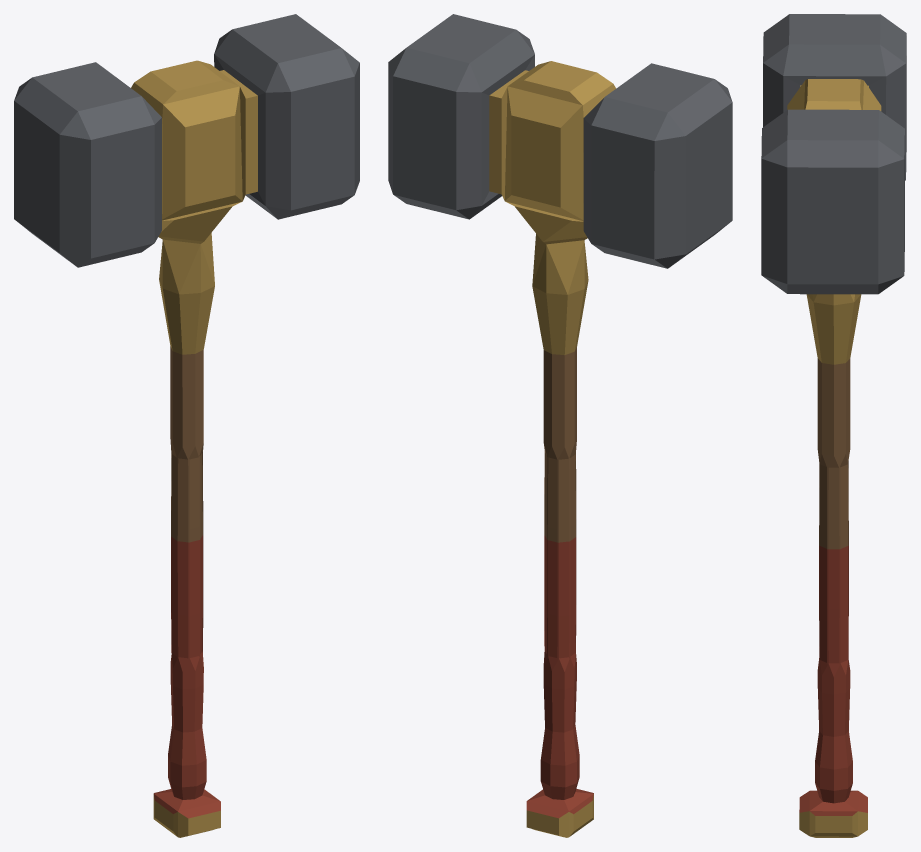
Rendered from weapon.glb.
3 renders of one model, left to right at view 1: azimuth 30°, elevation 25°; view 2: azimuth 150°, elevation 25°; view 3: azimuth 270°, elevation 25°, orthographic.
Parts seen in each view (by area): view 1: dwarf/barbarian/weapon; view 2: dwarf/barbarian/weapon; view 3: dwarf/barbarian/weapon.
Boxes of the visible parts, <box> form: dwarf/barbarian/weapon: <box>14,14,359,837</box>; dwarf/barbarian/weapon: <box>388,14,732,837</box>; dwarf/barbarian/weapon: <box>761,14,906,837</box>.
Bounding box in the file's own units: 0.5739 × 1.4 × 0.2445.
